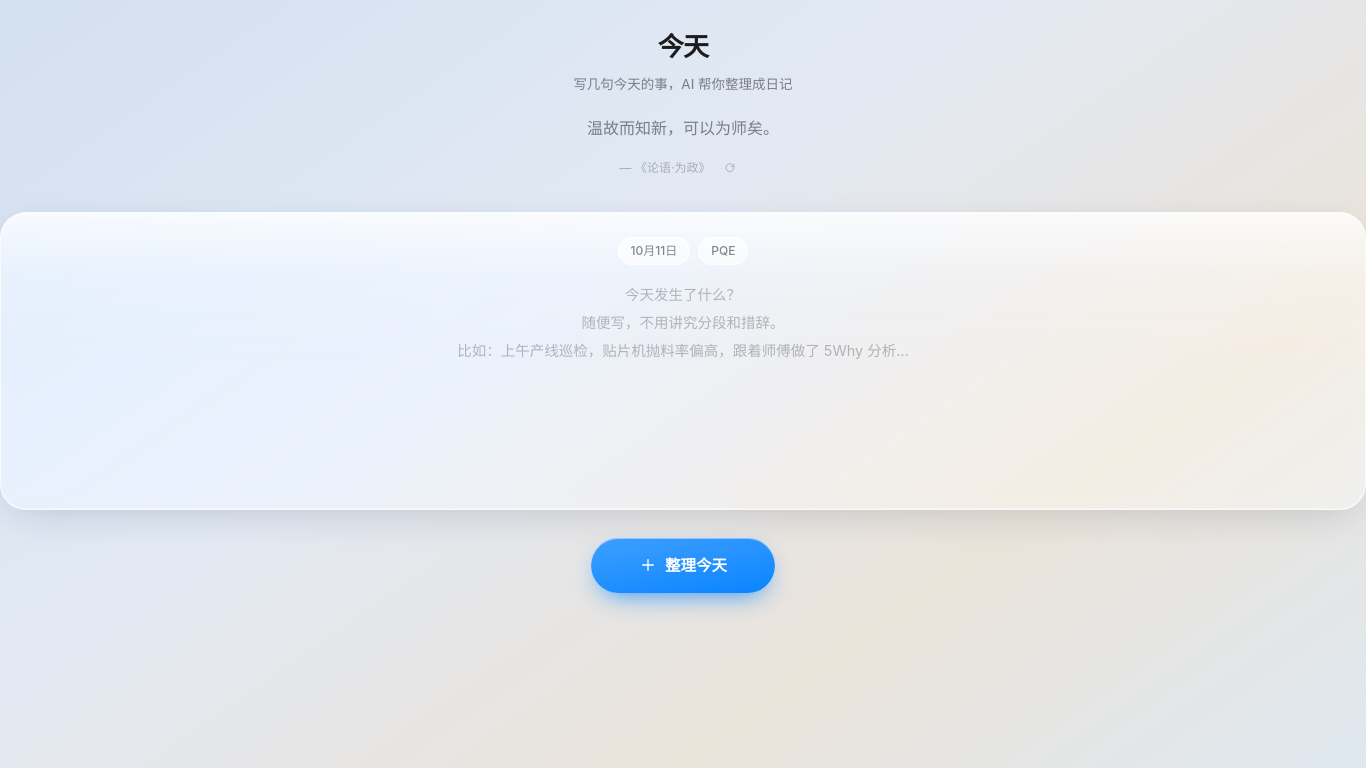
DiaryCreatePage 岗位选择器 › 输入关键词会筛选预设
Expected: the text box with placeholder "今天发生了什么？ 随便写，不用讲究分段和措辞。 比如：上午产线巡检，贴片机抛料率偏高，跟着师傅做了 5Why 分析…" is shown, left=29, top=281, right=1337, bottom=479
Step 1. Click the button titled "点击选择岗位" → click(723, 251), box left=698, top=237, right=748, bottom=265
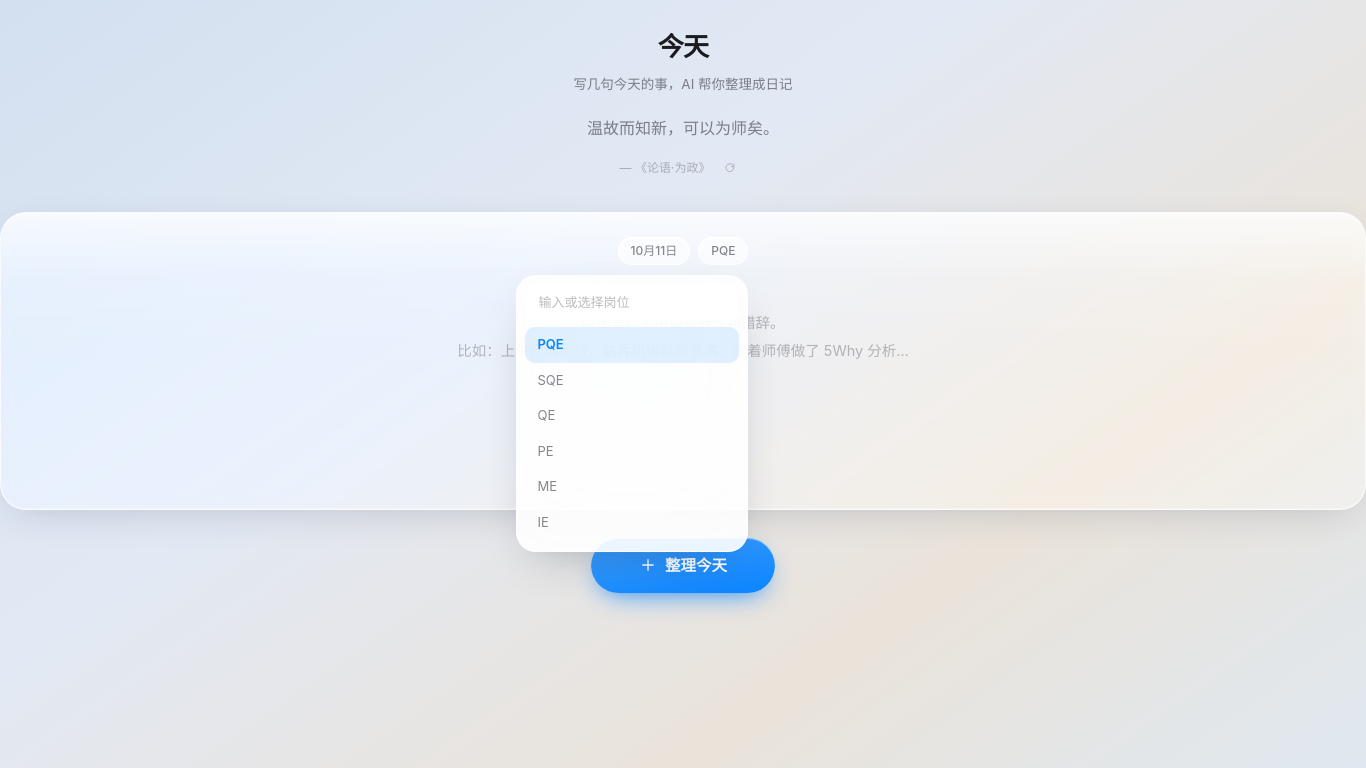
Step 2. Type "工程" into the field with placeholder "输入或选择岗位" → (632, 303), box left=525, top=284, right=739, bottom=321
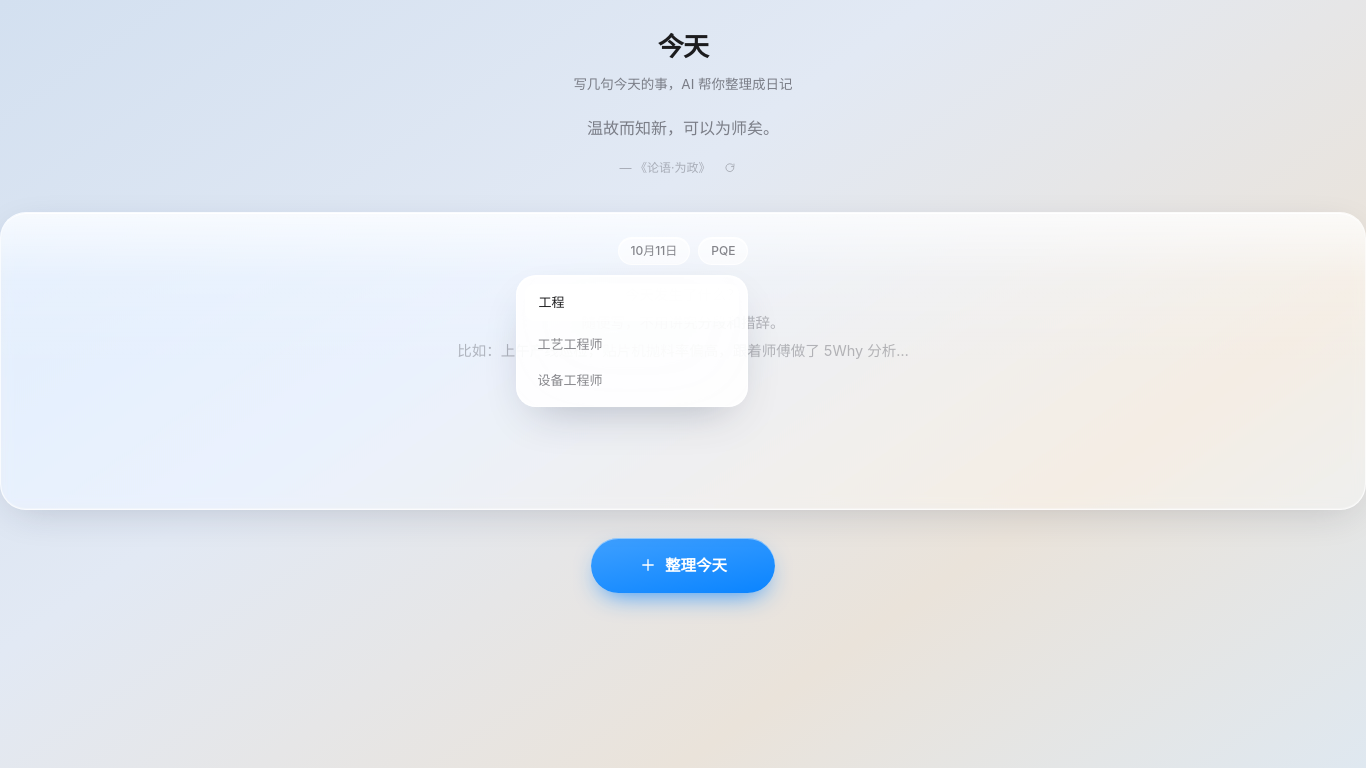
Expected: the button "工艺工程师" is shown, left=525, top=327, right=739, bottom=363
Expected: the button "设备工程师" is shown, left=525, top=363, right=739, bottom=398
Expected: the button "SQE" is gone
